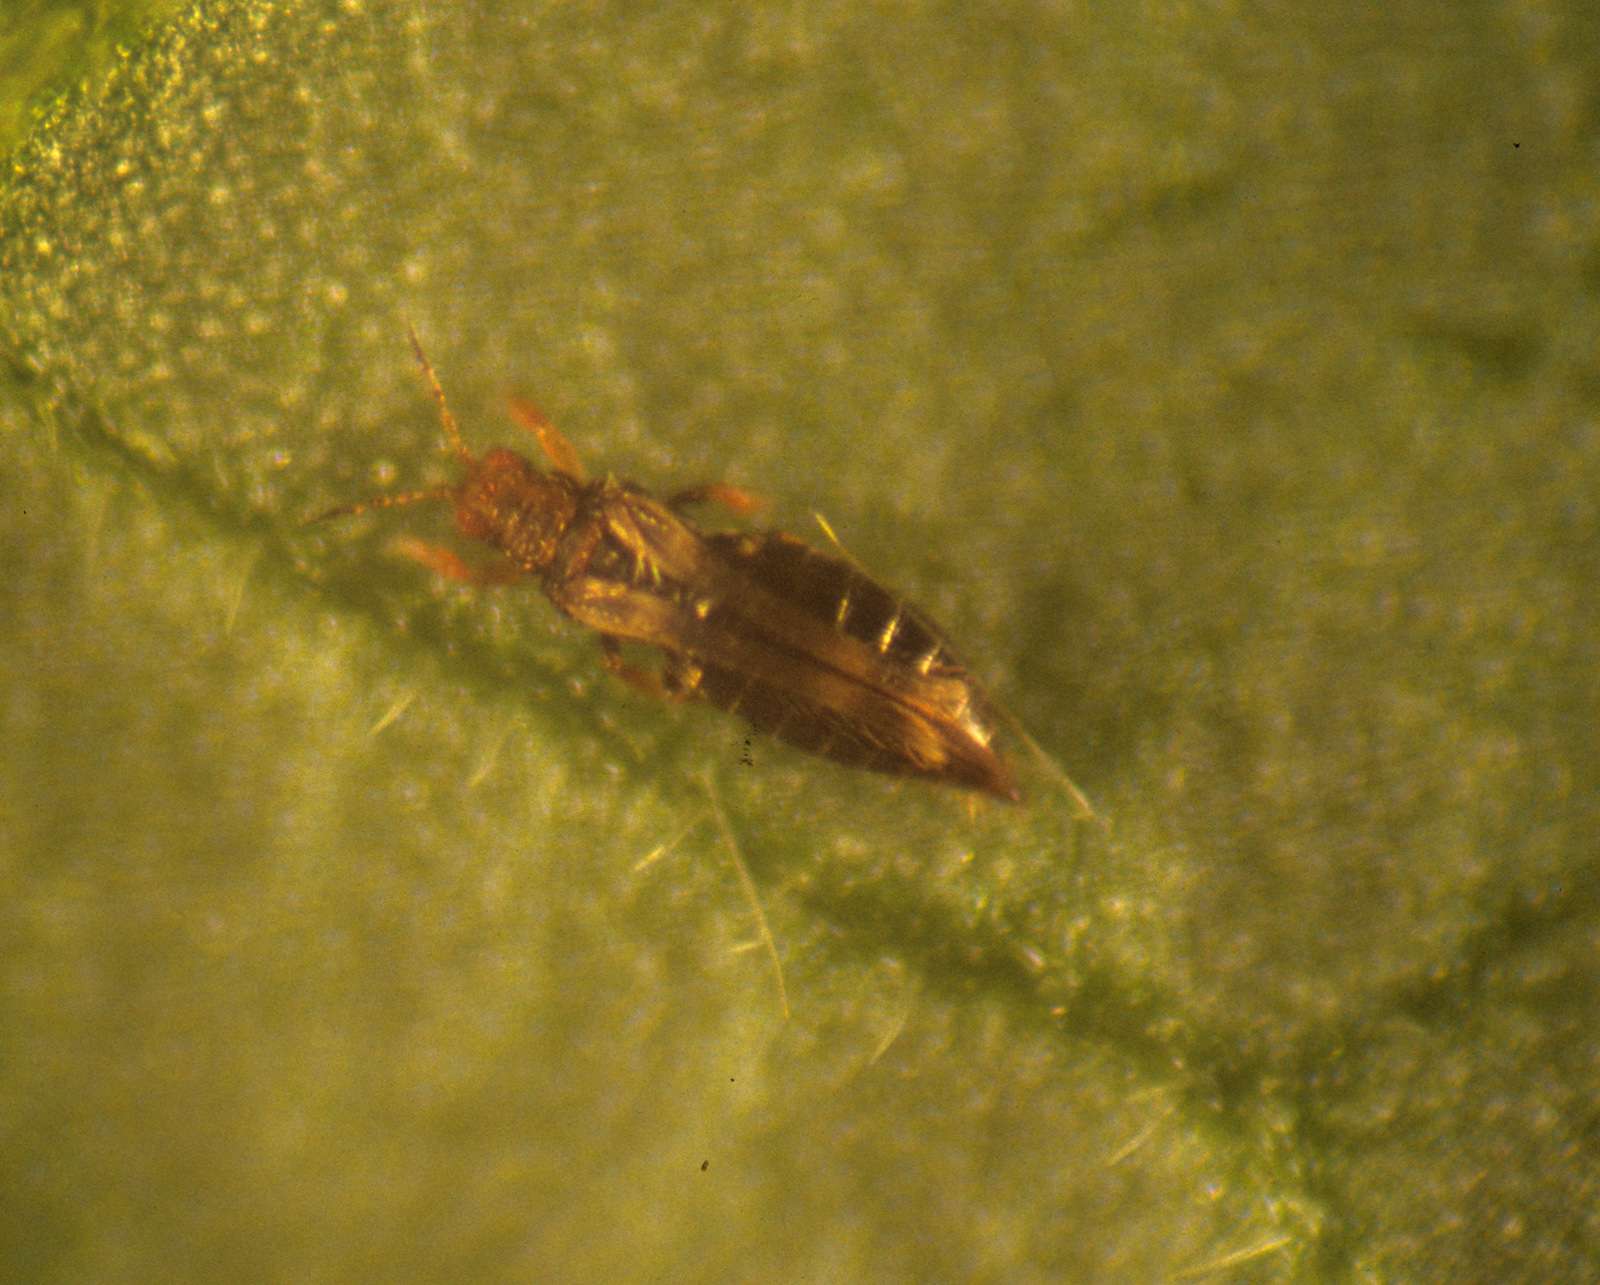Thrips: (336, 320, 1080, 862)
